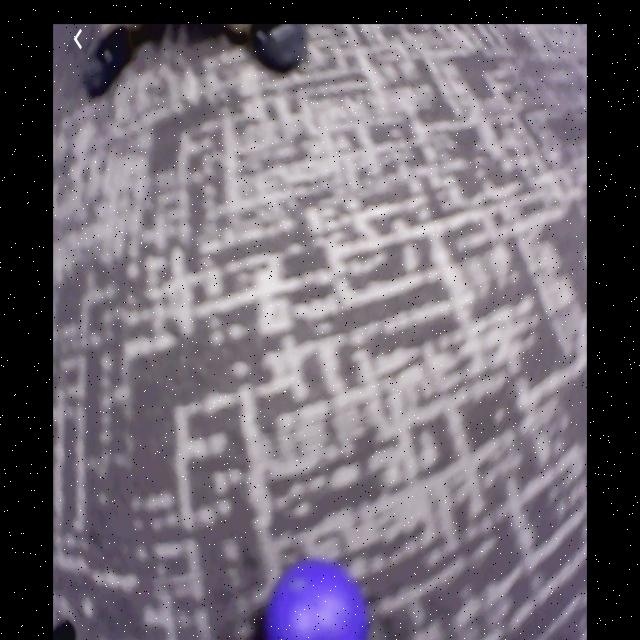ball: (264, 560, 370, 640)
